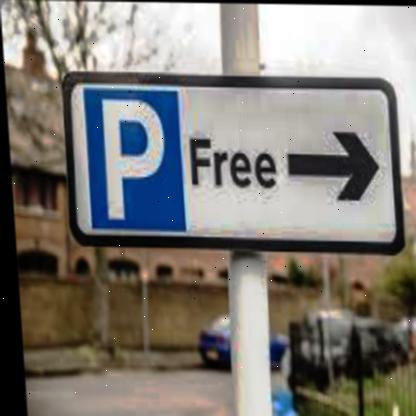Parking: (73, 81, 189, 242)
